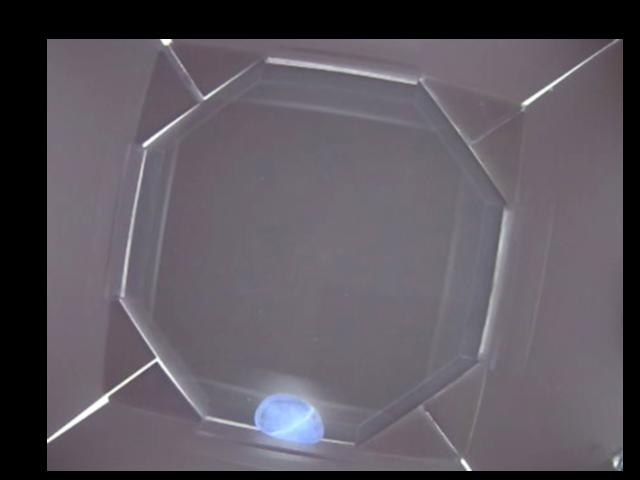Pebble: (249, 396, 324, 447)
